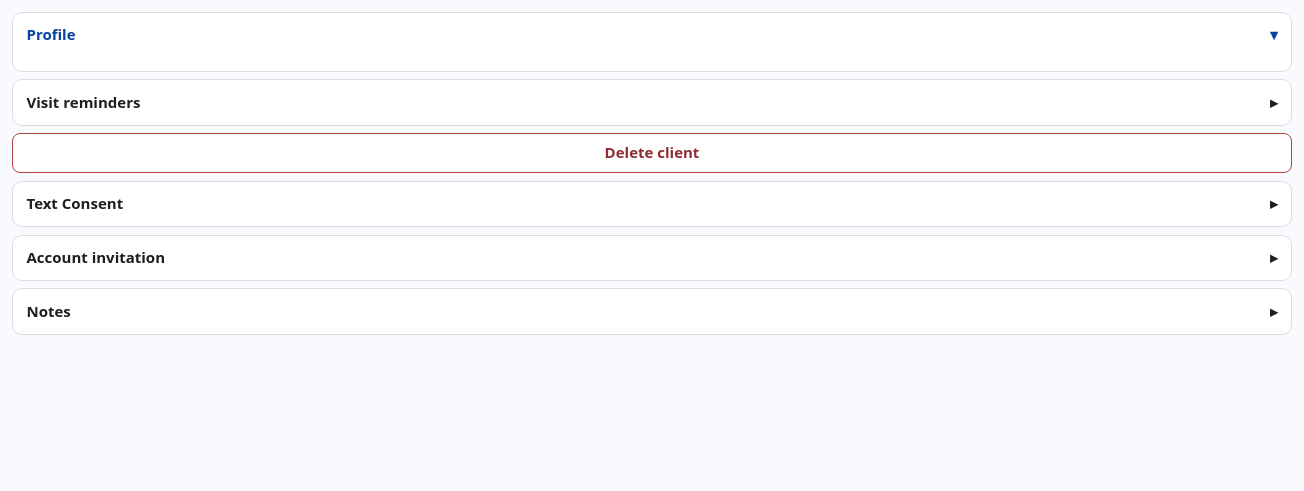
Test: Delete client confirmation › states irreversible effects and lets the owner cancel without a request
The image size is (1304, 491).
What coordinates should you click on to do the following:
click the button "Delete client"
I would click on:
 (652, 153)
Its box is [12,133,1292,173].
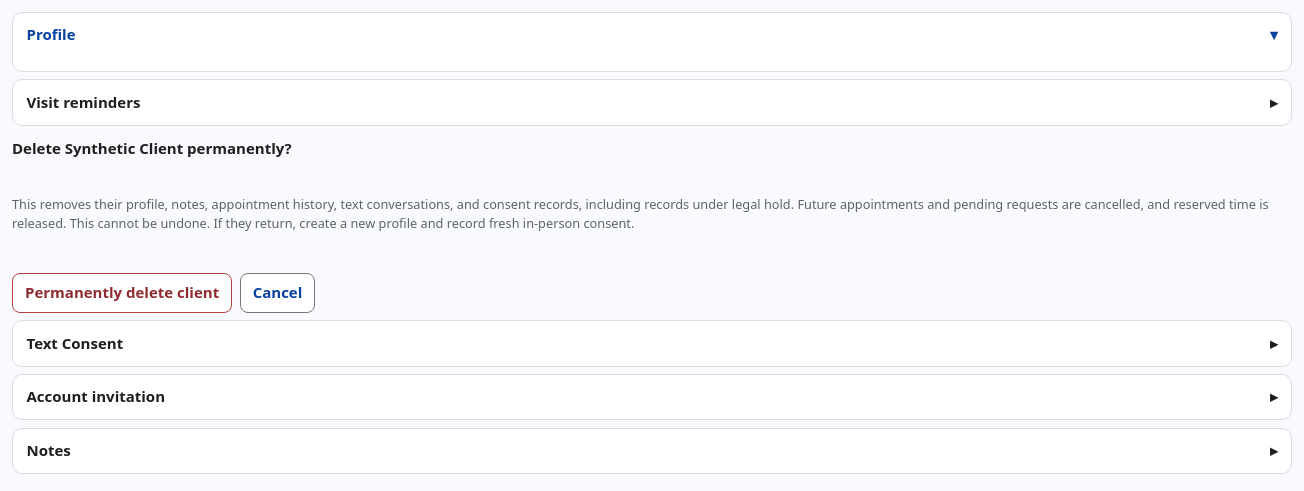
Expected: the text "This cannot be undone" is shown, [12,195,1269,232]
Expected: the text "Future appointments and pending requests are cancelled" is shown, [12,195,1269,232]
Expected: the text "consent records" is shown, [12,195,1269,232]
What coordinates should you click on to do the following:
click the button "Cancel"
I would click on:
 (278, 293)
Its box is [240,273,315,313].
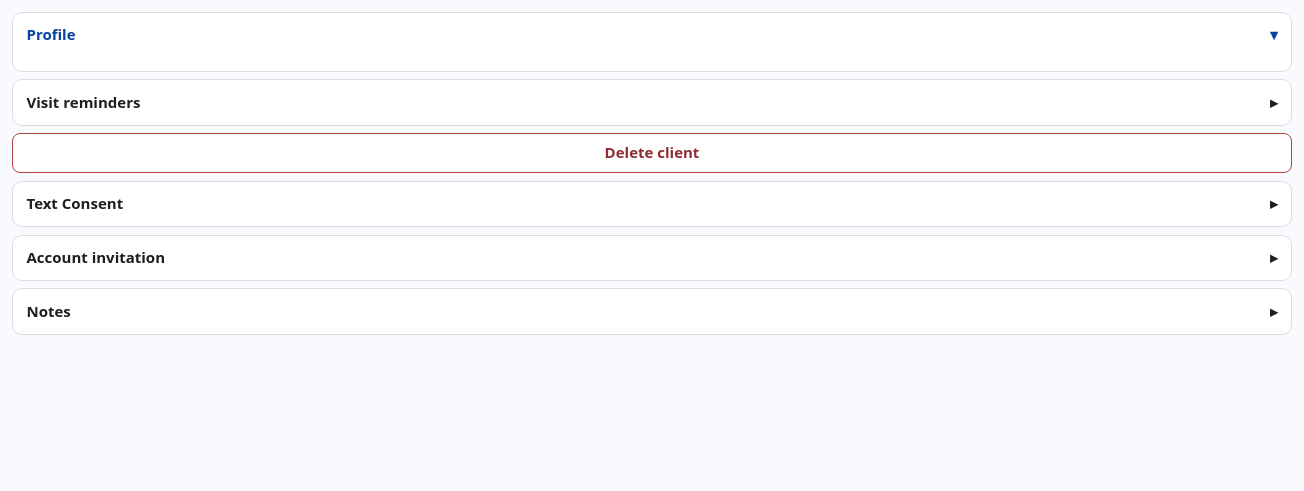
Expected: the text "This cannot be undone" is gone
